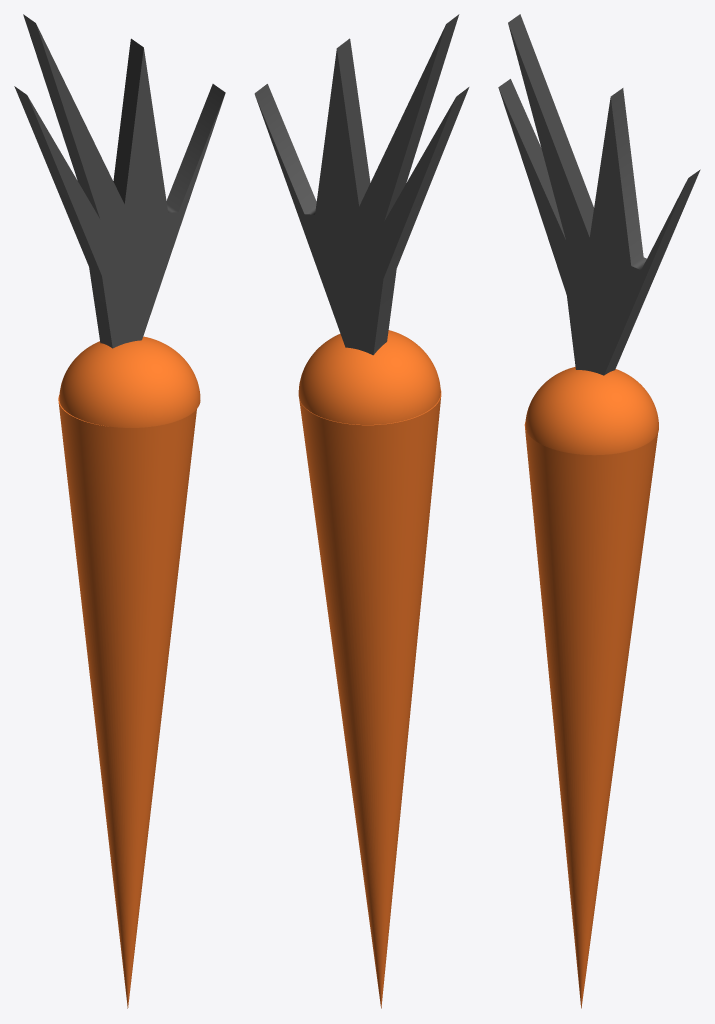
File: Carrot.fbx
3 views of the same model, side by side, from view 1: azimuth 30°, elevation 25°; view 2: azimuth 150°, elevation 25°; view 3: azimuth 330°, elevation 25° (orthographic). The views are drawn at different scales.
Visible parts, largest first — view 1: root (×3); view 2: root (×3); view 3: root (×3).
Part boxes in pixels (bbox=[...]): root (×3): bbox=[14, 14, 225, 1008]; root (×3): bbox=[254, 14, 469, 1008]; root (×3): bbox=[498, 14, 700, 1008].
Size of the model in its own units: 0.1103 by 0.5324 by 0.0682.
3 materials, 2 textured.
